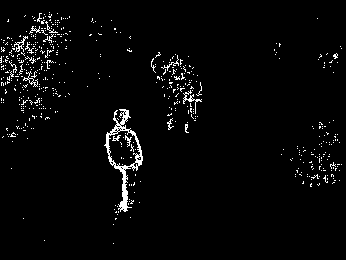person: (103, 107, 146, 214)
